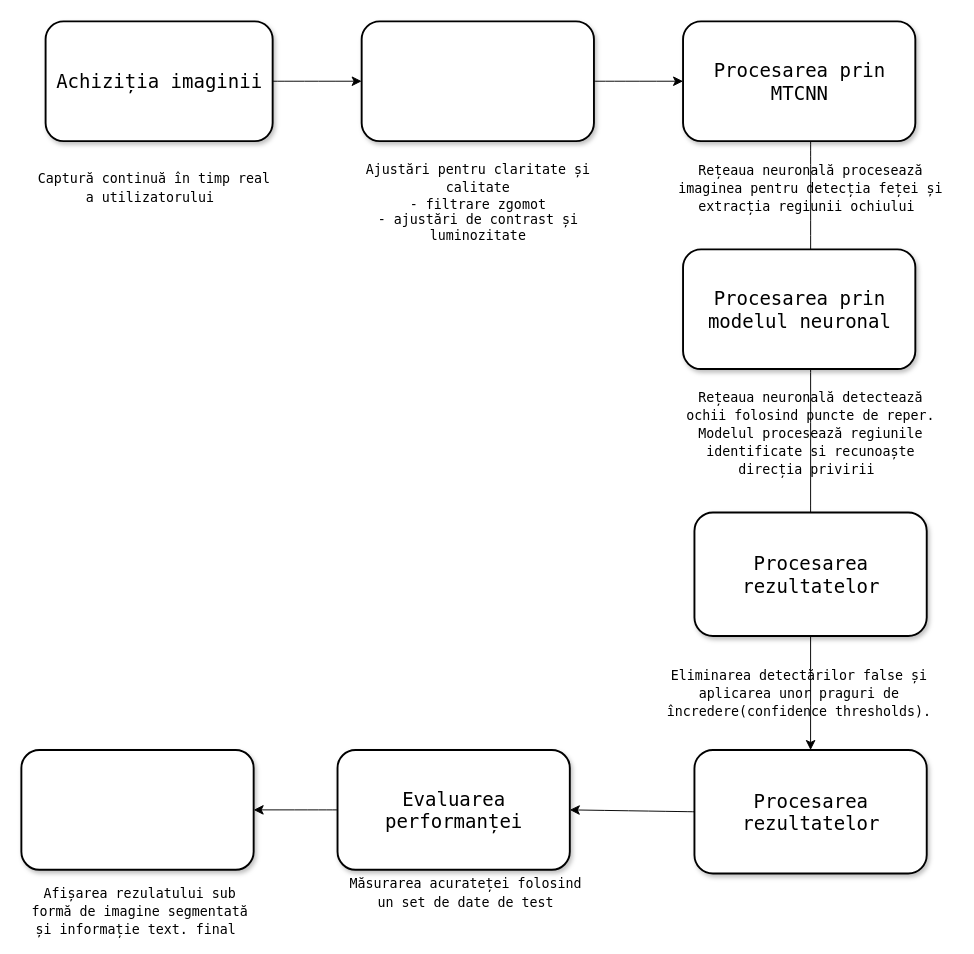
The diagram is 974 pixels wide and 954 high, and some of its shapes have lost their labels. The shapes that lost their labels are listed below. From the top down, each one's centre as x and y in pixels, then its label:
At pixel 478 82: "Preprocesarea imaginii".
At pixel 138 811: "Vizualizarea rezultatelor".
